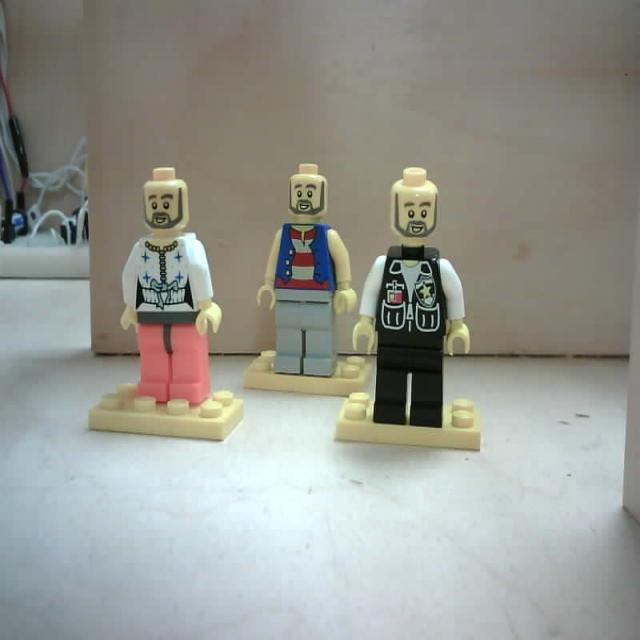Lego-People: (85, 170, 244, 447), (332, 167, 482, 454), (243, 164, 376, 398)
